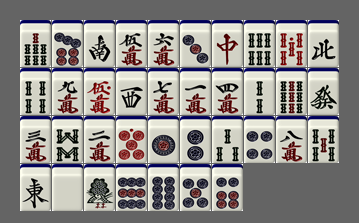0m: (84, 68, 115, 115)
0p: (116, 116, 147, 163)
0s: (276, 20, 307, 67)
1m: (180, 68, 211, 115)
1p: (148, 116, 179, 163)
1s: (84, 164, 115, 211)
1z: (20, 164, 51, 211)
2m: (84, 116, 115, 163)
2p: (180, 116, 211, 163)
2s: (244, 68, 275, 115)
2z: (84, 20, 115, 67)
3m: (20, 116, 51, 163)
3p: (180, 20, 211, 67)
3s: (212, 116, 243, 163)
3z: (116, 68, 147, 115)
4m: (212, 68, 243, 115)
4p: (244, 116, 275, 163)
4s: (20, 68, 51, 115)
4z: (308, 20, 339, 67)
5m: (116, 20, 147, 67)
5p: (180, 164, 211, 211)
5s: (308, 116, 339, 163)
5z: (52, 164, 83, 211)
6m: (148, 20, 179, 67)
6p: (212, 164, 243, 211)
6s: (244, 20, 275, 67)
6z: (308, 68, 339, 115)
7m: (148, 68, 179, 115)
7p: (52, 20, 83, 67)
7s: (20, 20, 51, 67)
7z: (212, 20, 243, 67)
8m: (276, 116, 307, 163)
8p: (148, 164, 179, 211)
8s: (52, 116, 83, 163)
9m: (52, 68, 83, 115)
9p: (116, 164, 147, 211)
9s: (276, 68, 307, 115)
